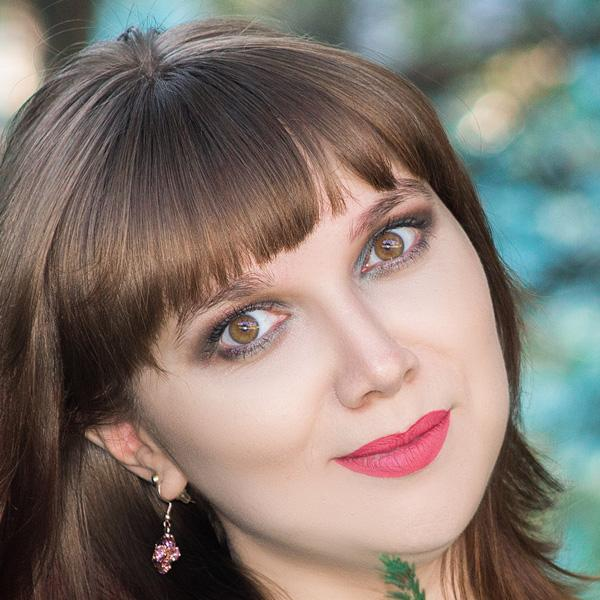Eyes: (196, 292, 304, 368), (351, 207, 436, 282)
